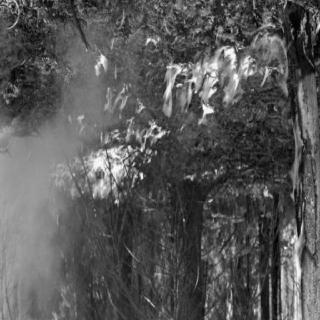Fire: (48, 50, 164, 224)
